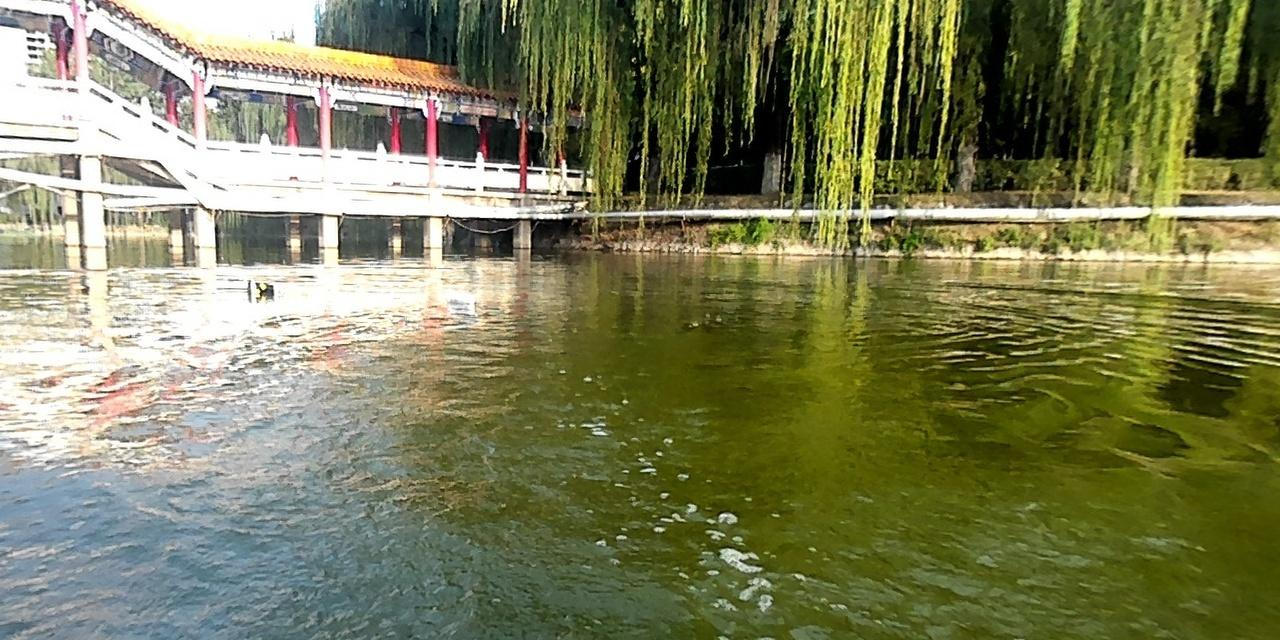bottle: (243, 275, 278, 297)
